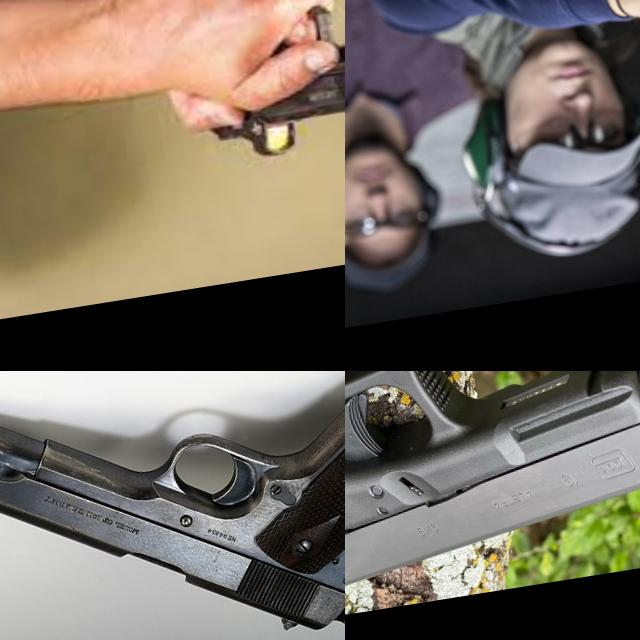handgun: (0, 371, 345, 640), (345, 371, 640, 640), (187, 0, 345, 168)
